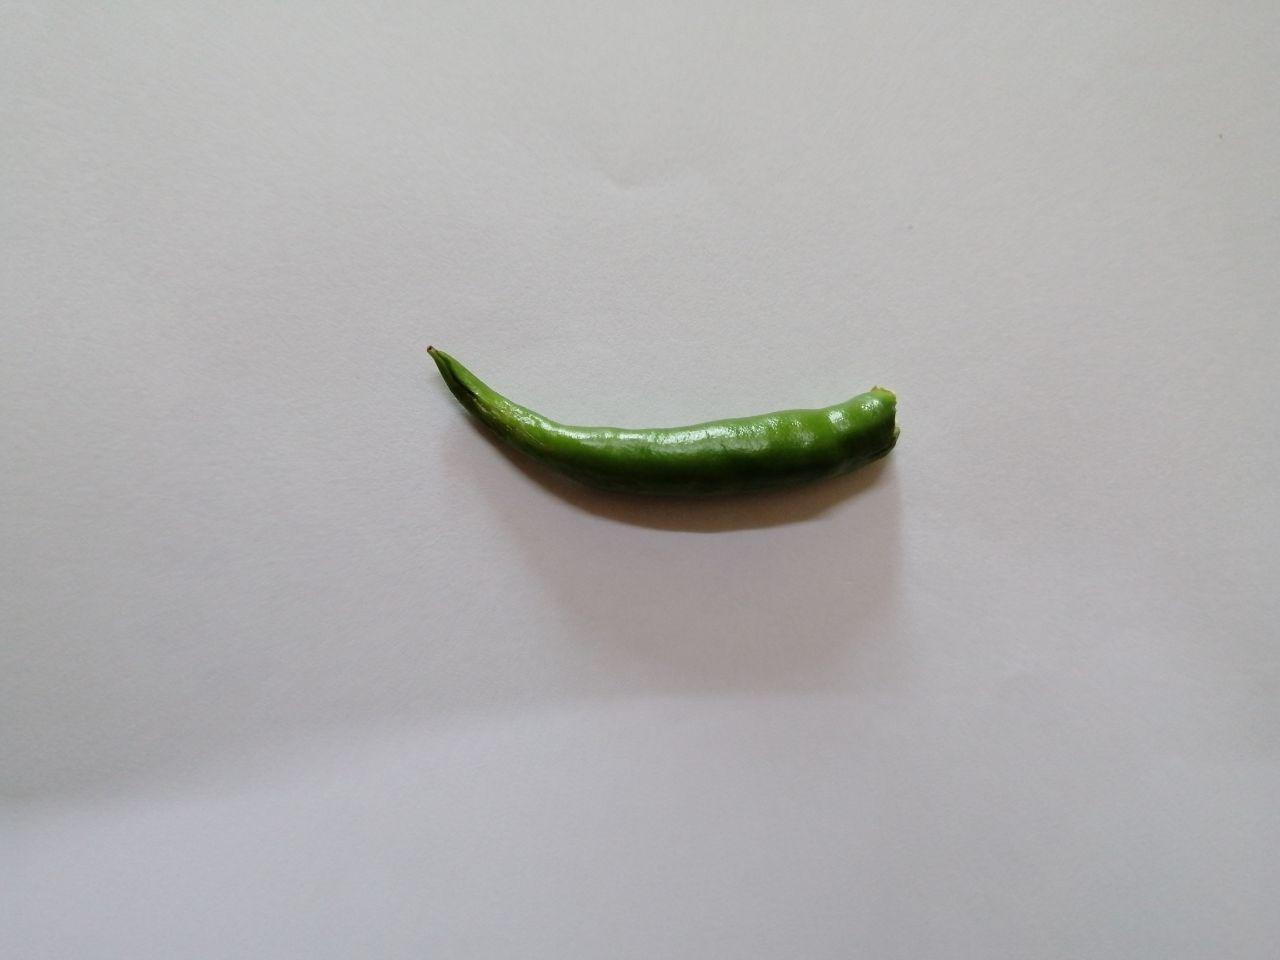lada hijau: (412, 327, 913, 515)
